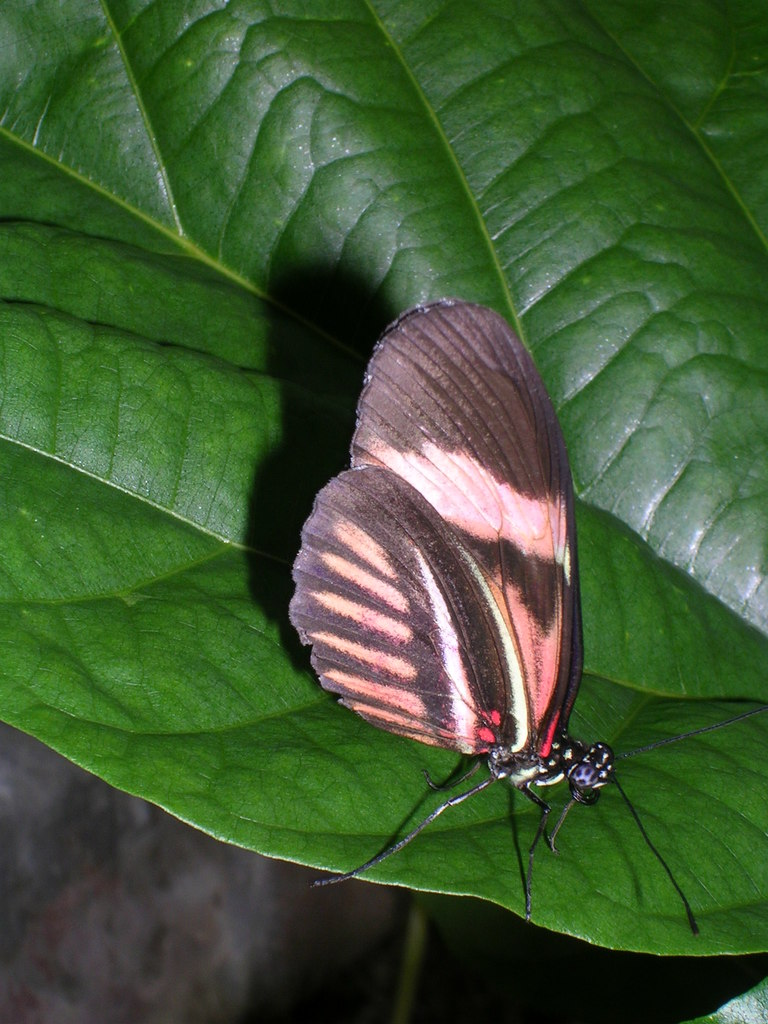Butterfly: (265, 284, 661, 870)
